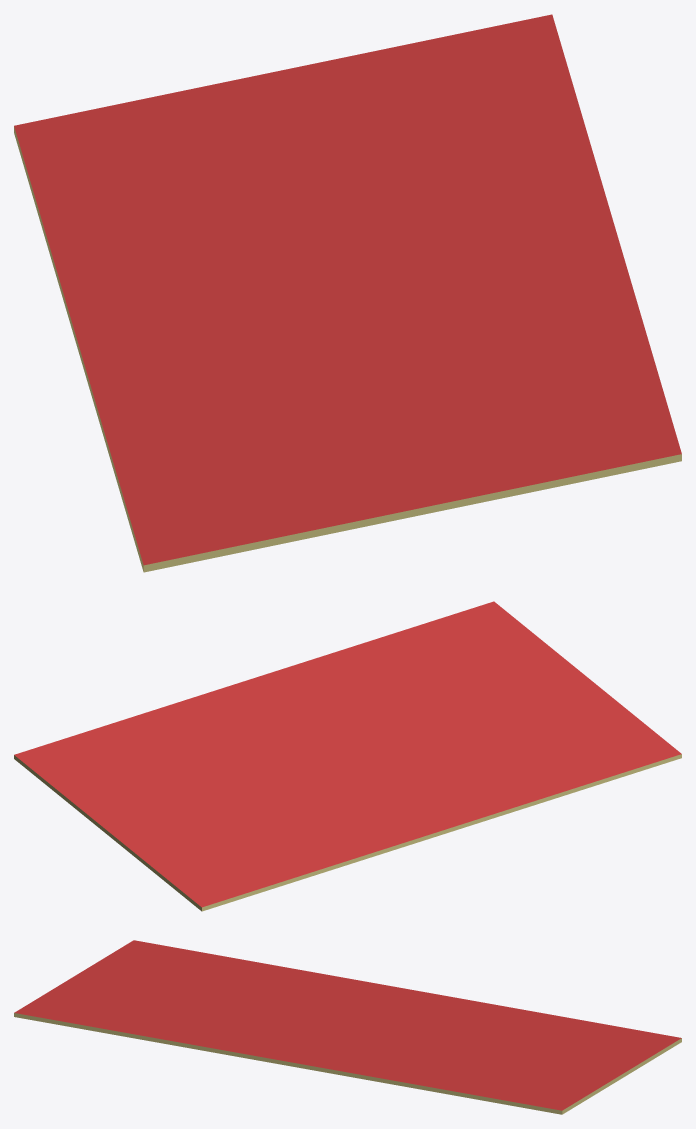
3 views of the same model, one above another, from view 1: azimuth 30°, elevation 25°; view 2: azimuth 150°, elevation 25°; view 3: azimuth 270°, elevation 25° (orthographic). The views are drawn at different scales.
Bounding box in the file's own units: 11.5 × 14.92 × 1.26.
